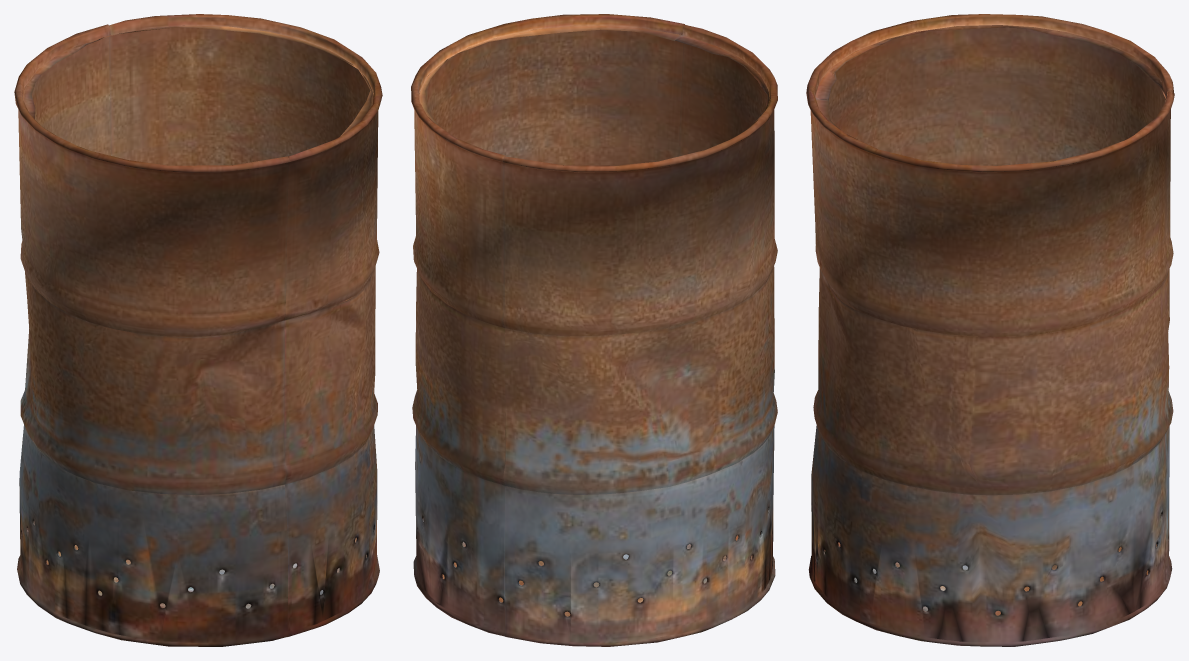
Rendered from barrel_stove.glb.
3 views of the same model, side by side, from view 1: azimuth 30°, elevation 25°; view 2: azimuth 150°, elevation 25°; view 3: azimuth 270°, elevation 25° (orthographic).
Parts seen in each view (by area): view 1: barrel_stove; view 2: barrel_stove; view 3: barrel_stove.
Boxes of the visible parts, x1,y1,x2,y2 form: barrel_stove: (14, 14, 382, 646); barrel_stove: (411, 14, 777, 646); barrel_stove: (806, 14, 1174, 646).
Size of the model in its own units: 0.5931 by 0.8572 by 0.594.
Materials: 1 (1 with a texture image).
